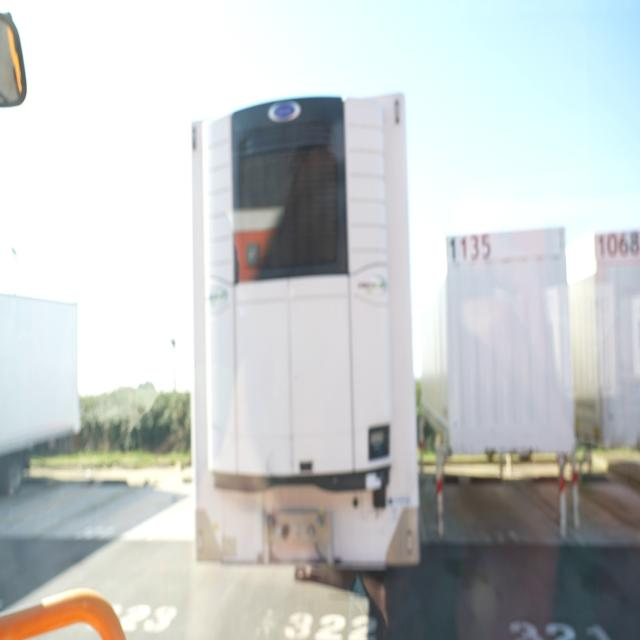Code: (444, 229, 498, 264), (596, 224, 640, 263)
